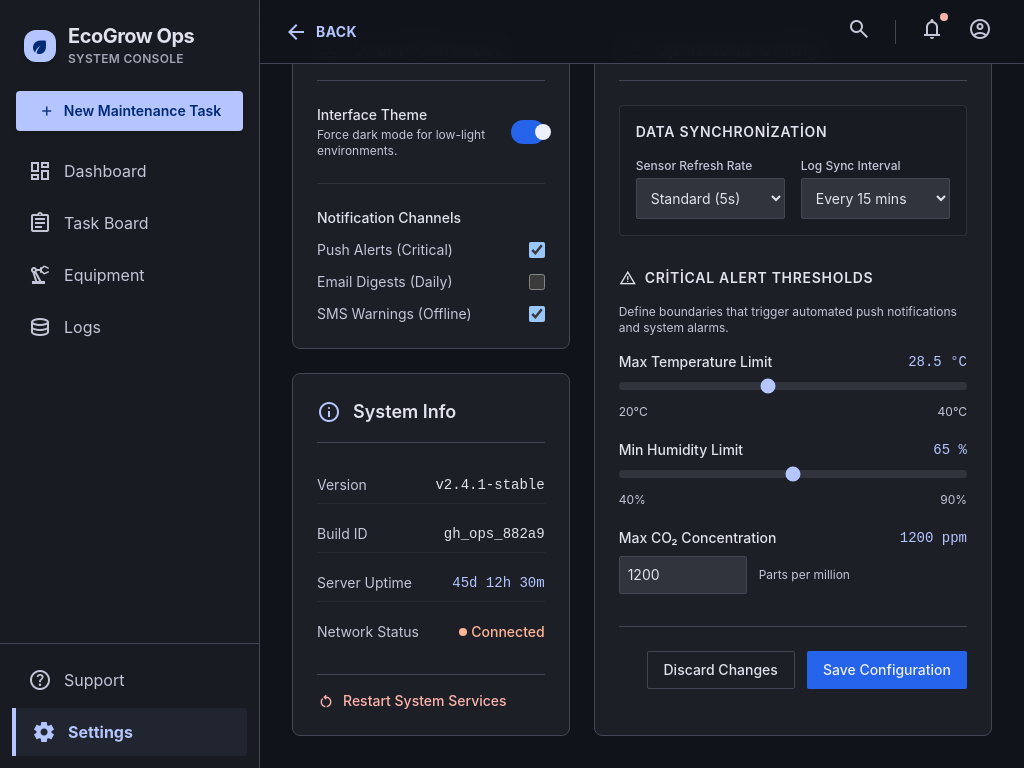
Test: Settings › updates CO2 input value
(page scrolled)
Replace the text in the number field labelled "Max CO₂ Concentration" with "1500": (683, 575) [619,556,747,594]
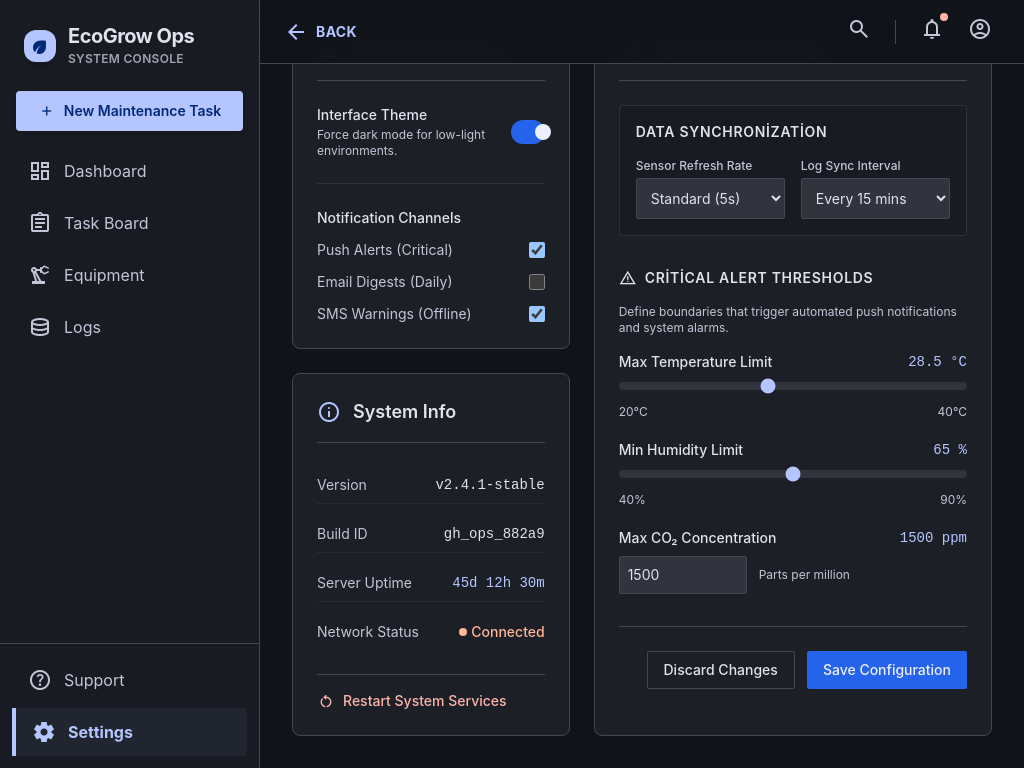
Expected: the text "1500 ppm" is shown, [900,528,967,548]
